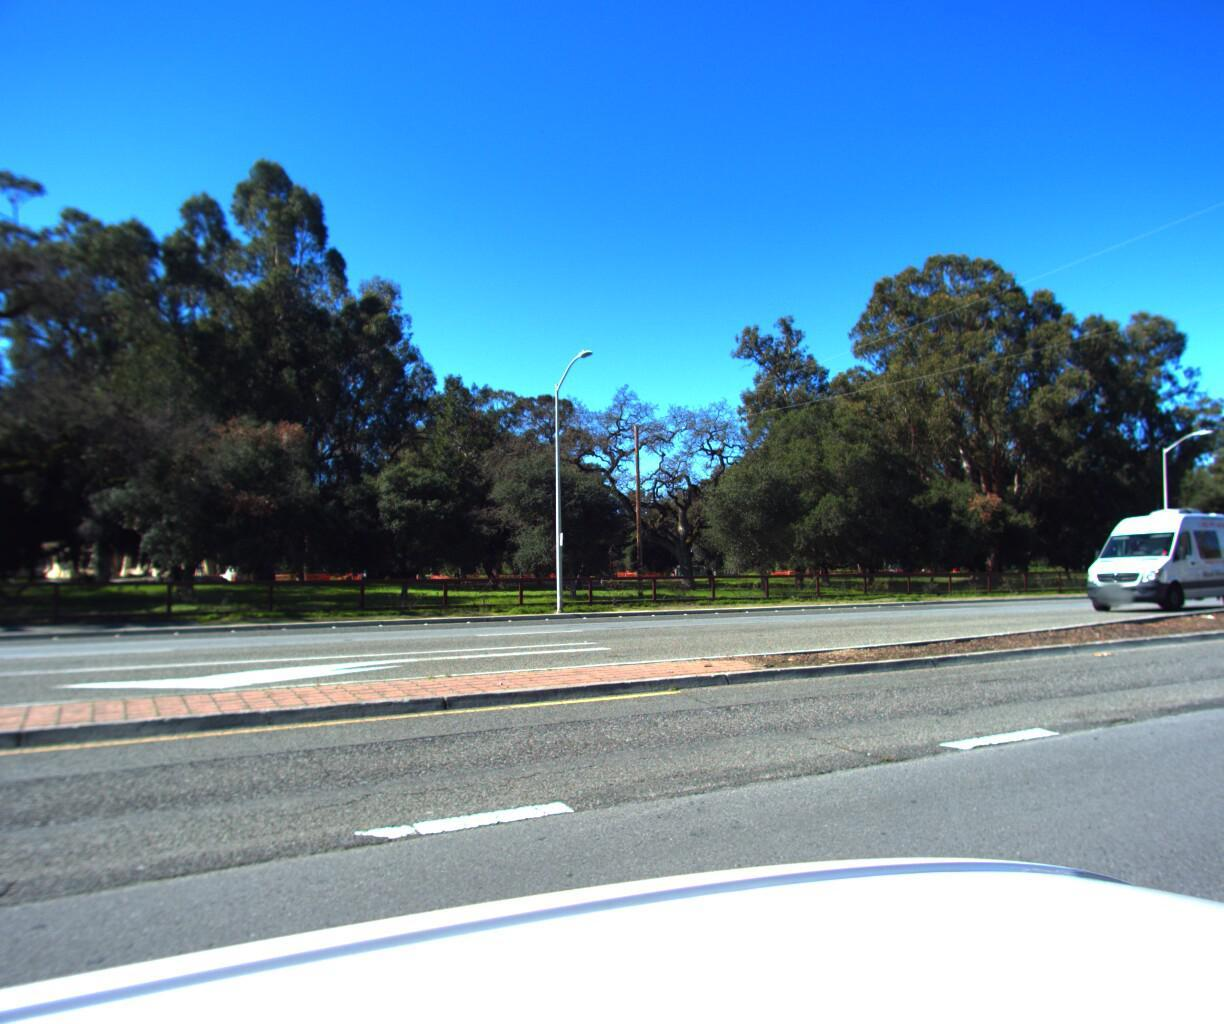car: (1063, 492, 1224, 612)
